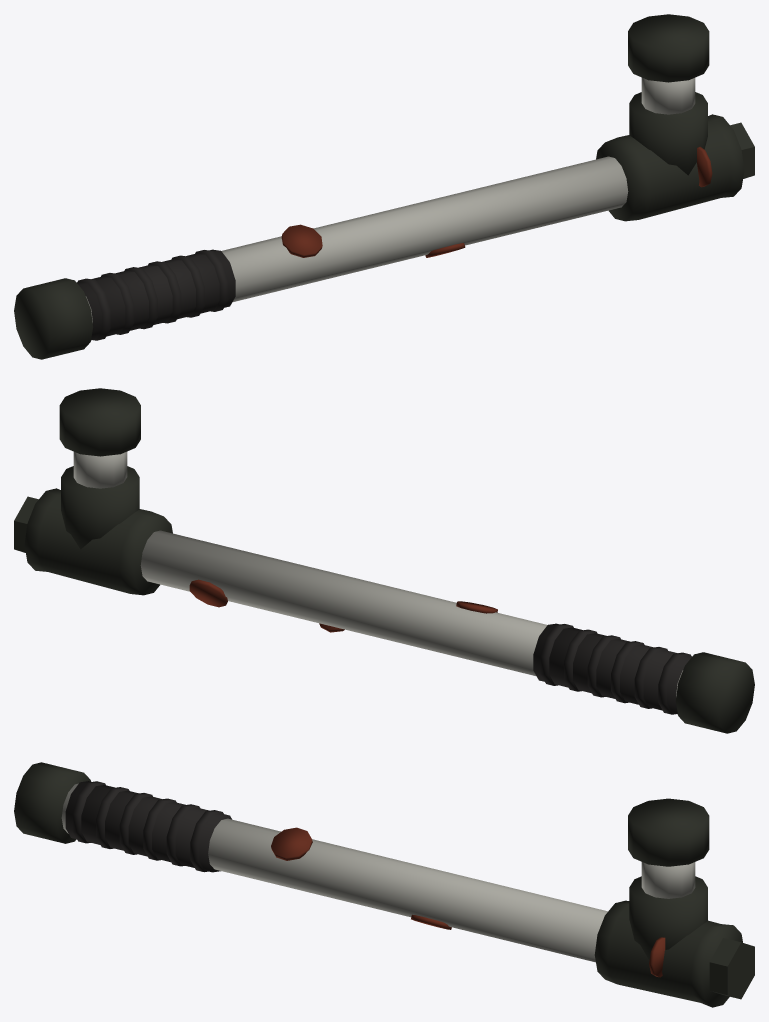
File: item_pipe.glb
3 views of the same model, one above another, from view 1: azimuth 30°, elevation 25°; view 2: azimuth 150°, elevation 25°; view 3: azimuth 330°, elevation 25° (orthographic).
Parts seen in each view (by area): view 1: pipe, tee_run, grip, coupling, cap, tee_branch, nipple, rust_0, plug, grip_turn_3, grip_turn_1, grip_turn_5 (+3 smaller); view 2: pipe, tee_run, grip, coupling, cap, tee_branch, nipple, rust_2, plug, grip_turn_3, grip_turn_1, grip_turn_5 (+3 smaller); view 3: pipe, tee_run, grip, cap, tee_branch, coupling, plug, nipple, rust_0, grip_turn_0, grip_turn_4, grip_turn_5 (+4 smaller).
Part boxes in pixels (x1,y1,x2,y2): pipe: (86, 156, 628, 322); tee_run: (596, 114, 744, 221); grip: (77, 249, 235, 340); coupling: (14, 278, 93, 359); cap: (628, 14, 709, 82); tee_branch: (629, 92, 707, 175); nipple: (641, 77, 695, 114); rust_0: (281, 224, 322, 257); plug: (730, 122, 754, 178); grip_turn_3: (148, 261, 181, 323); grip_turn_1: (101, 273, 134, 334); grip_turn_5: (195, 250, 228, 311); pipe: (140, 530, 682, 696); tee_run: (24, 488, 172, 595); grip: (533, 623, 691, 714); coupling: (675, 652, 754, 733); cap: (59, 388, 140, 456); tee_branch: (61, 466, 139, 549); nipple: (73, 451, 127, 488); rust_2: (189, 579, 227, 607); plug: (14, 496, 38, 552); grip_turn_3: (587, 635, 620, 697); grip_turn_1: (634, 647, 667, 708); grip_turn_5: (540, 624, 573, 685); pipe: (61, 783, 607, 962); tee_run: (594, 900, 742, 1007); grip: (65, 781, 231, 872); cap: (628, 798, 709, 866); tee_branch: (629, 876, 707, 959); coupling: (14, 762, 90, 843); plug: (709, 938, 754, 999); nipple: (641, 862, 695, 898); rust_0: (271, 827, 312, 860); grip_turn_0: (72, 781, 105, 843); grip_turn_4: (166, 804, 199, 866); grip_turn_5: (190, 810, 223, 872).
Bounding box in the file's own units: 0.702 × 0.1665 × 0.0875.
